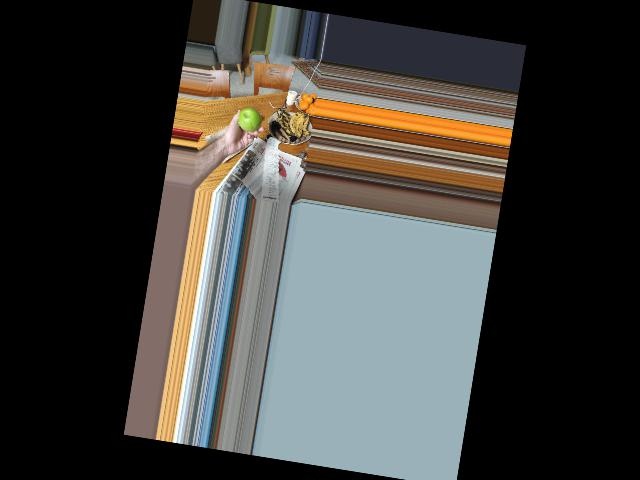apple: (236, 105, 263, 135)
